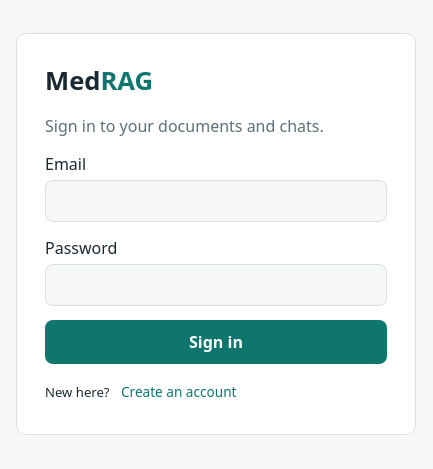
Test: AuthScreen › shows the server's error and stays on the form
Type "alice@example.org" into the field labelled "Email".
click(216, 201); type("alice@example.org")  # box x1=45 y1=180 x2=387 y2=222
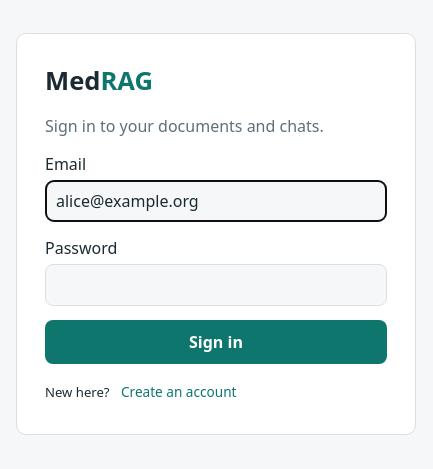
Type "nope nope" into the password field labelled "Password".
click(216, 285); type("nope nope")  # box x1=45 y1=264 x2=387 y2=306
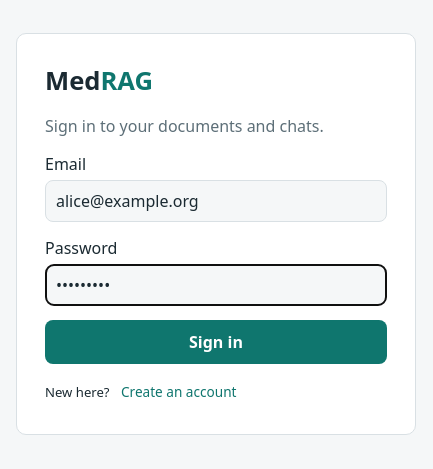
Click the button "Sign in".
click(216, 342)  # box x1=45 y1=320 x2=387 y2=364
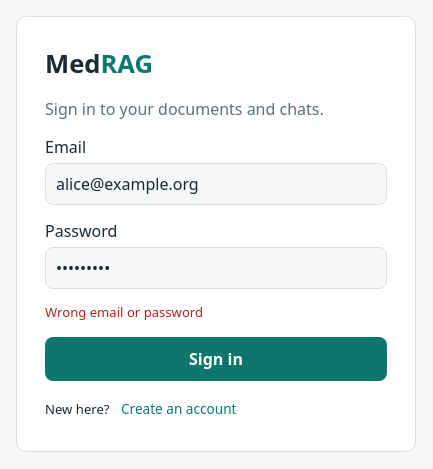
Now the message reads "Wrong email or password", box x1=45 y1=303 x2=203 y2=321
